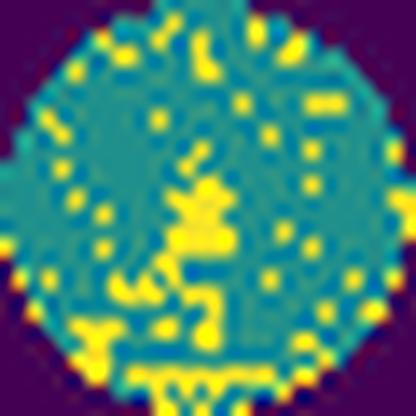Center: (153, 178, 243, 359)
